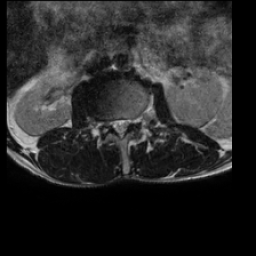CCS_normal: (117, 112, 123, 143)
LFS_stenosis: (130, 111, 138, 130)
LLS_normal: (123, 112, 130, 131)
RFS_stenosis: (104, 114, 110, 133)
RLS_normal: (110, 114, 117, 134)
